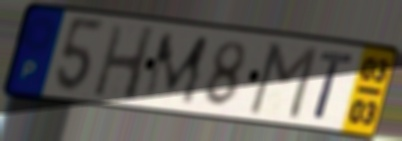5: (52, 14, 109, 98)
8: (202, 39, 250, 109)
H: (90, 22, 159, 104)
M: (245, 40, 322, 123), (139, 31, 213, 107)
T: (311, 48, 357, 122)
